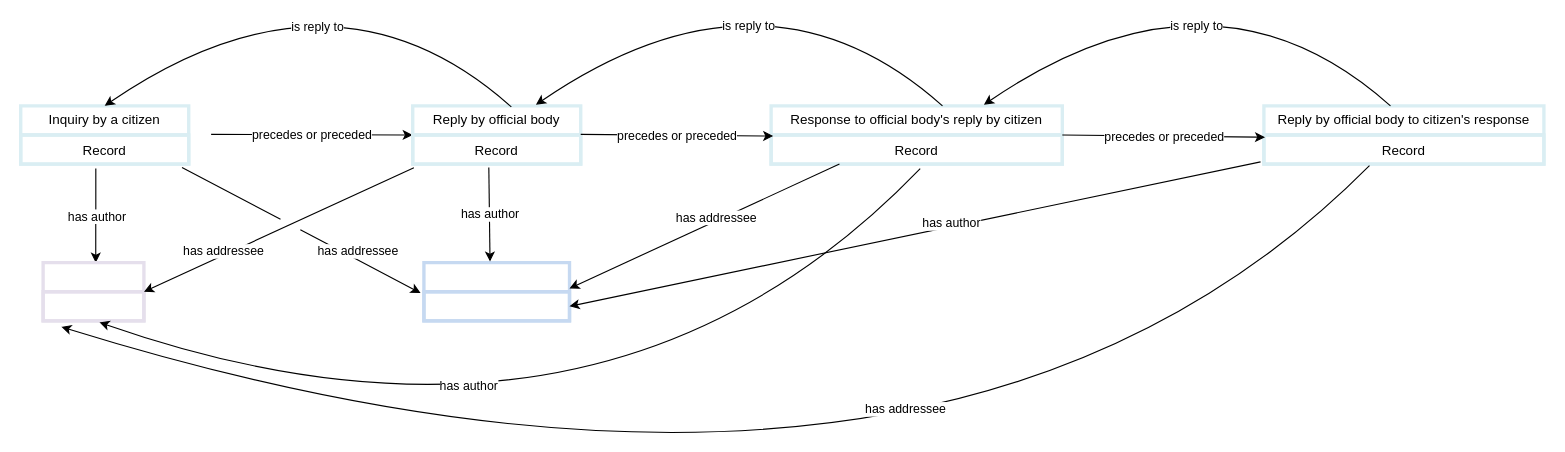
Some shapes in this 1565 by 452 pixel diagram are drawn without their labels. The shapes that lost their labels are listed below. From the top down, each one's box as (x1, y1, x2, y2) in pixels, then its label:
(41, 260, 145, 322): A citizen
(41, 290, 145, 322): Person
(422, 260, 571, 322): An official body
(422, 290, 571, 322): CorporateBody
